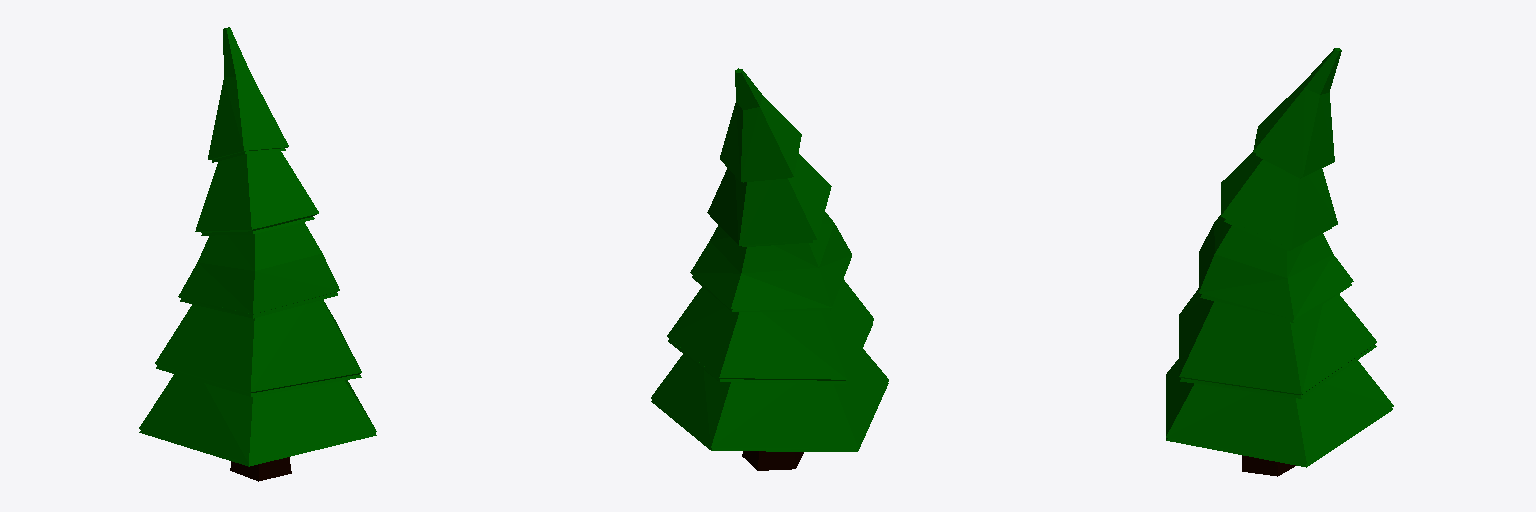
File: Pine2.obj
The picture shows the model from 3 angles: view 1: azimuth 30°, elevation 25°; view 2: azimuth 150°, elevation 25°; view 3: azimuth 270°, elevation 25°; orthographic projection.
Visible parts, largest first — view 1: Cylinder; view 2: Cylinder; view 3: Cylinder.
Boxes of the visible parts, box(x1,y1,x2,y2) form: Cylinder: box(139, 27, 376, 481); Cylinder: box(651, 68, 888, 470); Cylinder: box(1166, 48, 1393, 476).
Size of the model in its own units: 2.04 by 3.89 by 1.94.